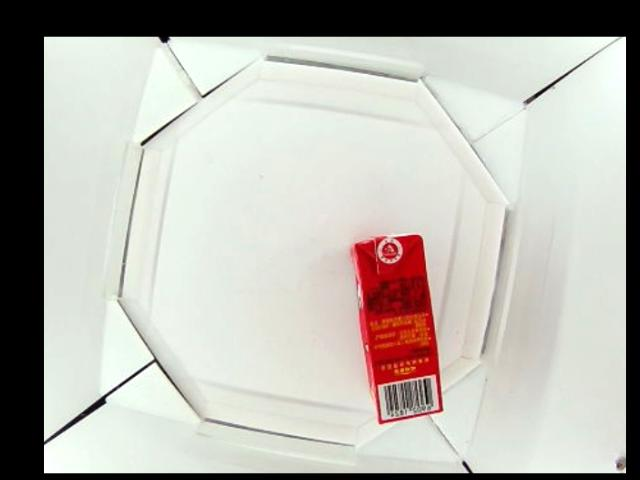Bottle: (352, 234, 438, 425)
